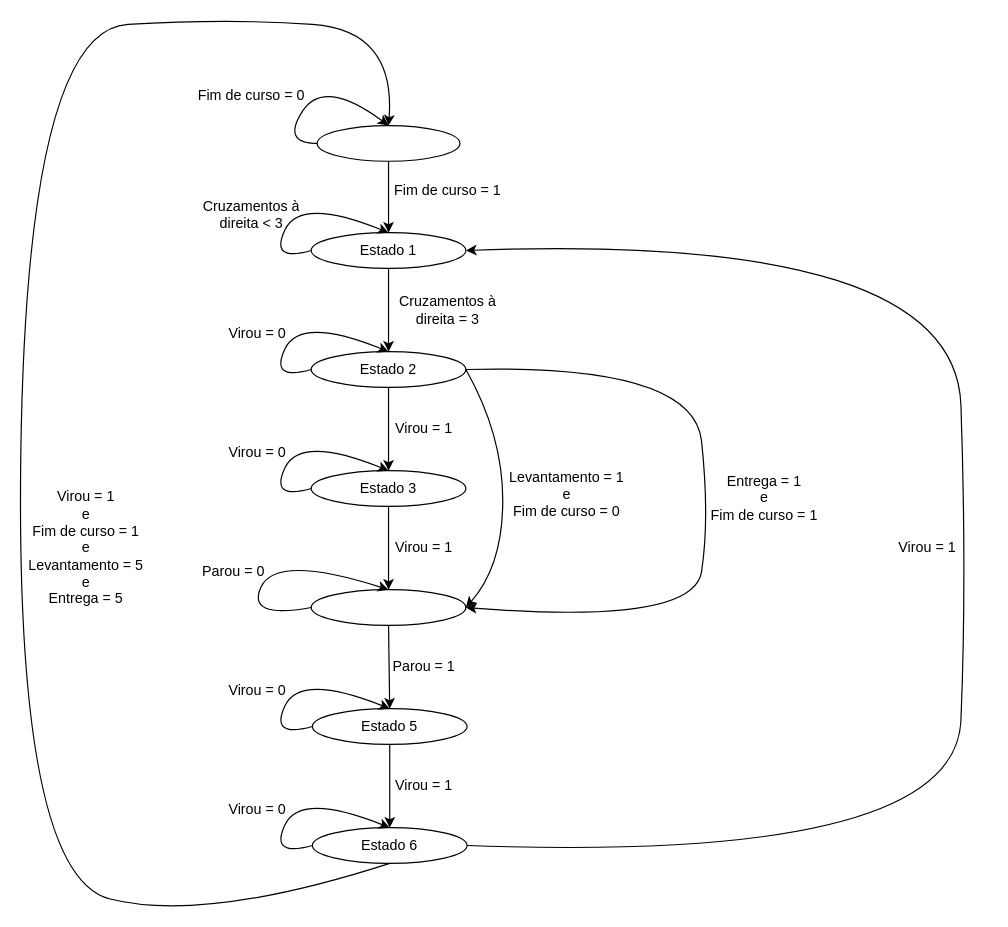
Image size: 1008x927. Some labels were removed from this diagram. The centre of each missing label's shape, as x and y in pixels:
"Estado 0" belongs at point (388, 142).
"Estado 4" belongs at point (388, 606).
